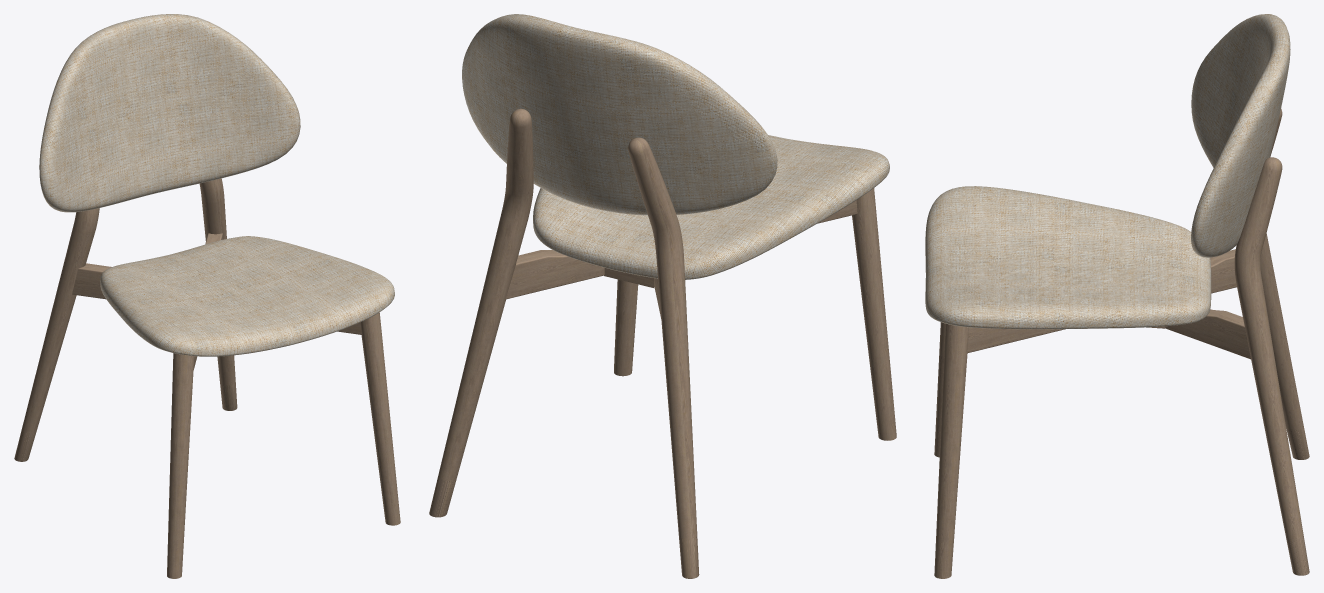
Rendered from newchair.glb.
3 renders of one model, left to right at view 1: azimuth 30°, elevation 25°; view 2: azimuth 150°, elevation 25°; view 3: azimuth 270°, elevation 25°, orthographic. The views are drawn at different scales.
Visible parts, largest first — view 1: Box012, Box011, 对象015, 对象018, 对象019, 对象020, 对象016; view 2: Box012, Box011, 对象015, 对象020, 对象018, 对象024, 对象019; view 3: Box011, Box012, 对象020, 对象019, 对象015, 对象016, 对象024, 对象018.
Part boxes in pixels (box(x1,y1,x2,y2)): Box012: box(39, 14, 300, 212); Box011: box(100, 236, 394, 356); 对象015: box(14, 208, 99, 461); 对象018: box(167, 353, 194, 578); 对象019: box(360, 312, 400, 525); 对象020: box(199, 178, 237, 410); 对象016: box(72, 263, 361, 334); Box012: box(462, 14, 777, 215); Box011: box(533, 135, 889, 279); 对象015: box(628, 137, 699, 578); 对象020: box(429, 108, 533, 517); 对象018: box(852, 188, 896, 440); 对象024: box(505, 200, 857, 299); 对象019: box(614, 279, 638, 376); Box011: box(925, 186, 1211, 329); Box012: box(1191, 14, 1290, 257); 对象020: box(1234, 157, 1309, 575); 对象019: box(934, 323, 968, 578); 对象015: box(1260, 108, 1309, 459); 对象016: box(967, 249, 1236, 352); 对象024: box(1165, 309, 1250, 359); 对象018: box(934, 322, 945, 457).
Size of the model in its own units: 0.4977 by 0.7701 by 0.5635.
2 materials, 2 textured.
